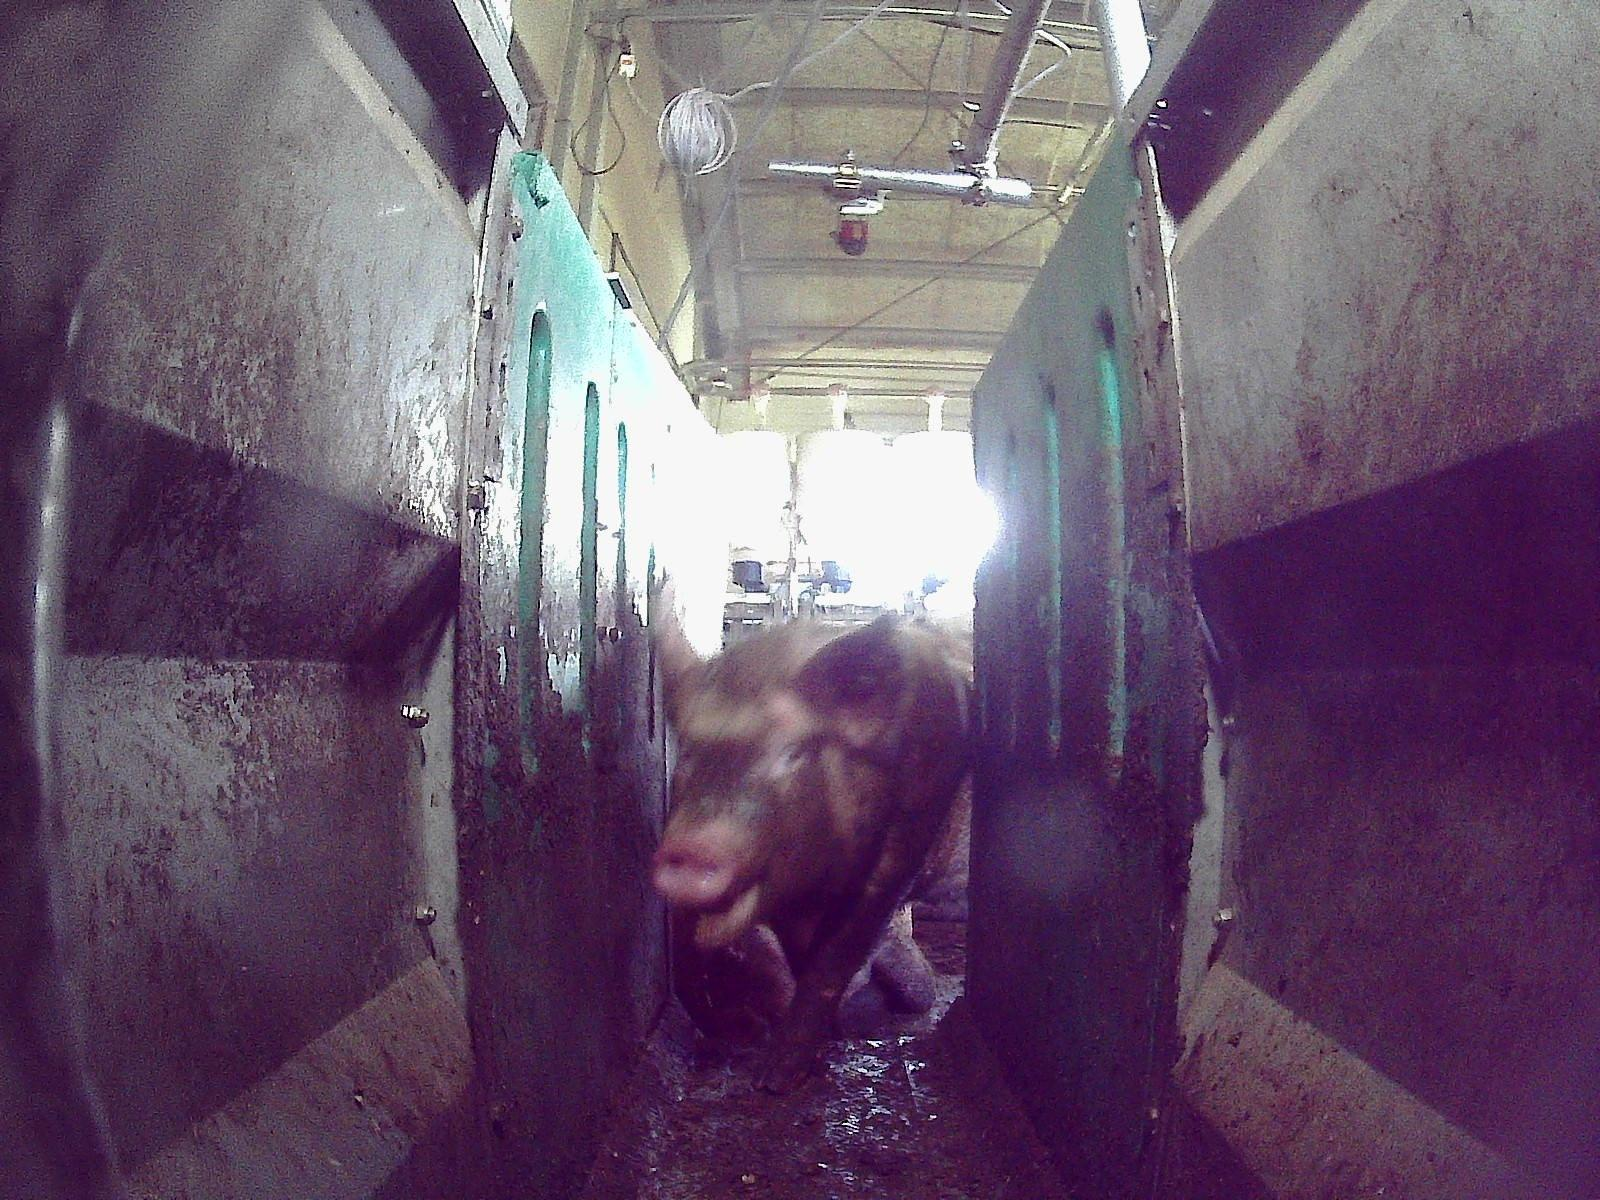Face: (647, 651, 855, 946)
